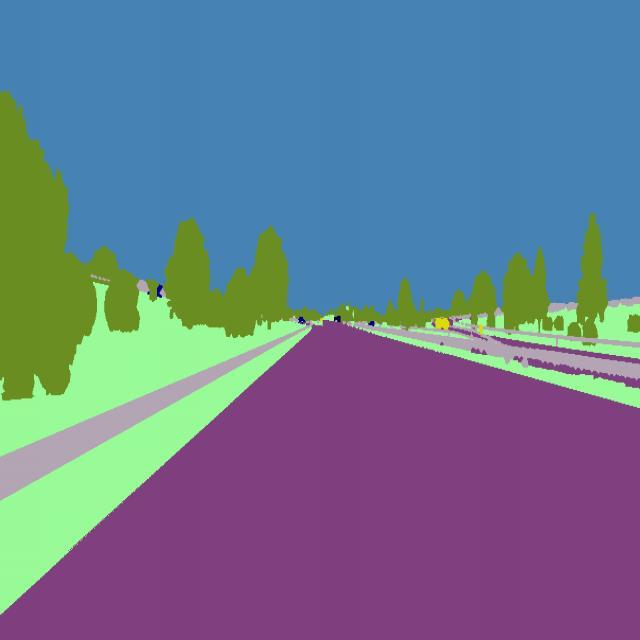safe: (296, 314, 306, 326), (367, 318, 378, 328)
